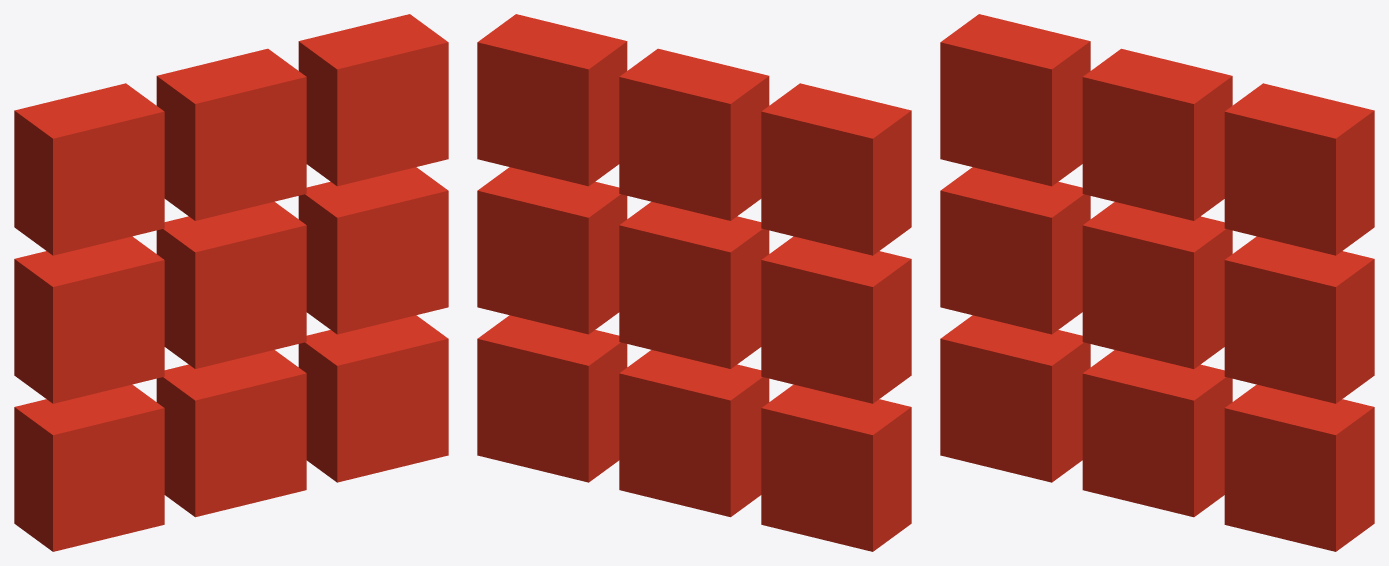
File: Icon_Menu_03.fbx
The picture shows the model from 3 angles, left to right: view 1: azimuth 30°, elevation 25°; view 2: azimuth 150°, elevation 25°; view 3: azimuth 330°, elevation 25°; orthographic projection.
Visible parts, largest first — view 1: Icon_Menu_03; view 2: Icon_Menu_03; view 3: Icon_Menu_03.
Boxes of the visible parts, x1,y1,x2,y2 form: Icon_Menu_03: (14, 14, 448, 551); Icon_Menu_03: (477, 14, 911, 551); Icon_Menu_03: (940, 14, 1374, 551).
Bounding box in the file's own units: 71.31 × 71.2 × 12.06.
